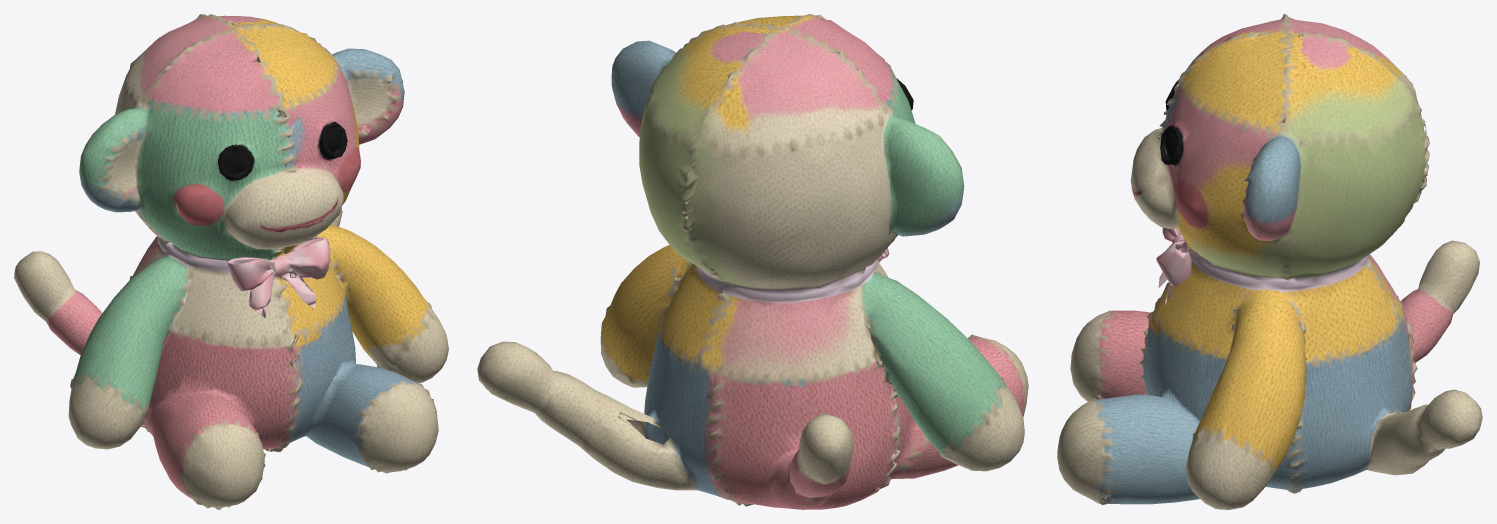
Rendered from plushaki.glb.
The picture shows the model from 3 angles, left to right: view 1: azimuth 30°, elevation 25°; view 2: azimuth 150°, elevation 25°; view 3: azimuth 270°, elevation 25°; orthographic projection. The views are drawn at different scales.
Parts seen in each view (by area): view 1: world; view 2: world; view 3: world.
Boxes of the visible parts, x1,y1,x2,y2 form: world: (14,14,448,509); world: (477,14,1028,509); world: (1057,14,1482,509).
Bounding box in the file's own units: 0.9586 × 0.9997 × 0.8931.
Materials: 1 (1 with a texture image).
